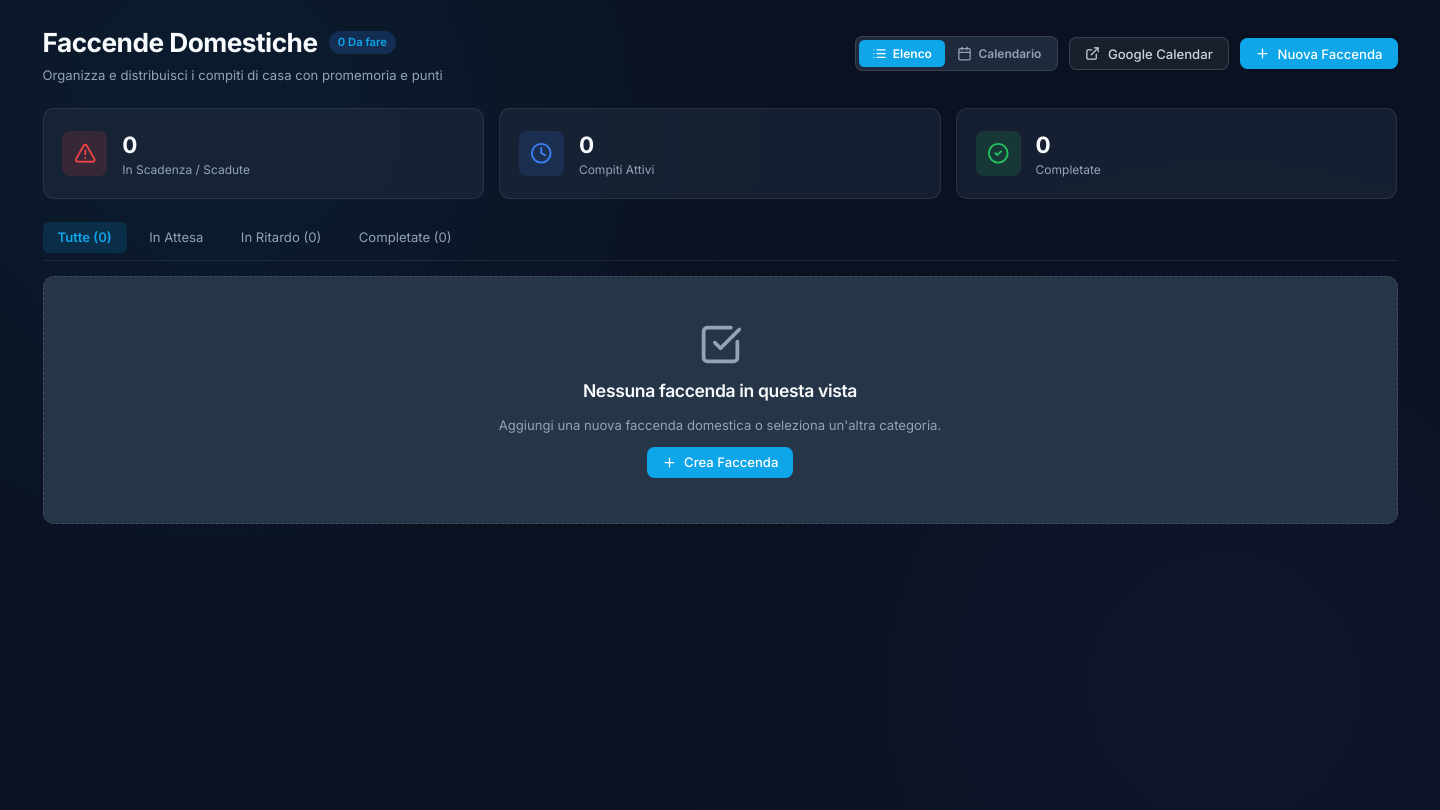
Test: ChoresView.vue › opens create modal on button click
Click the button "Nuova Faccenda": x=1319, y=54 x1=1240 y1=38 x2=1398 y2=69
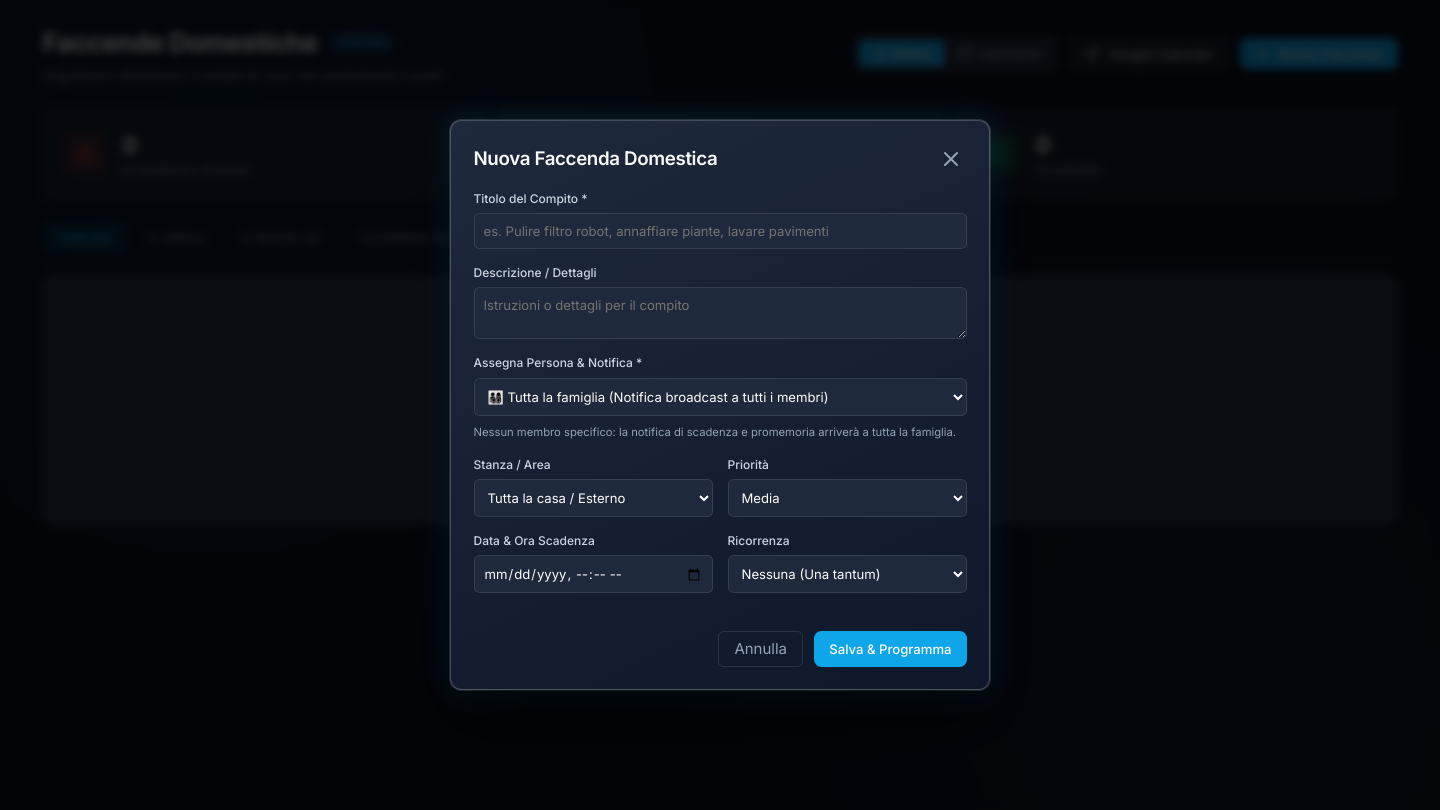
Result: the dialog with class "modal-card" is shown at x1=450 y1=120 x2=990 y2=690
